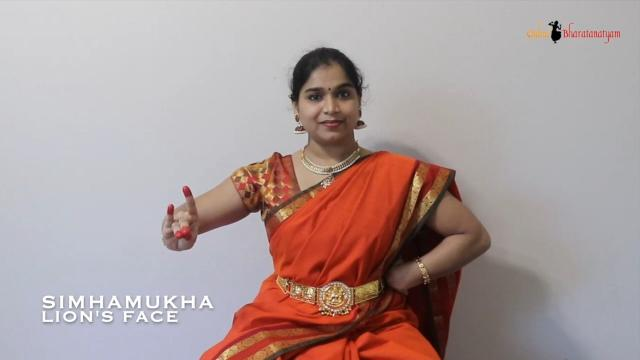sinhamukh: (120, 150, 216, 274)
